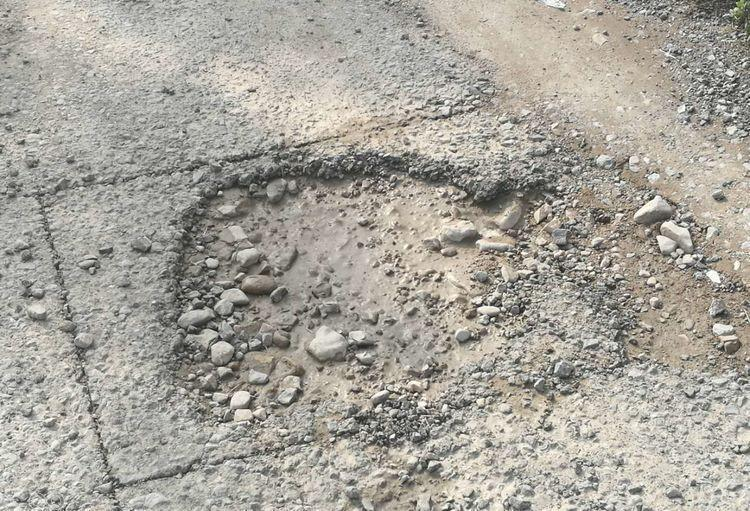pothole: (166, 155, 566, 428)
